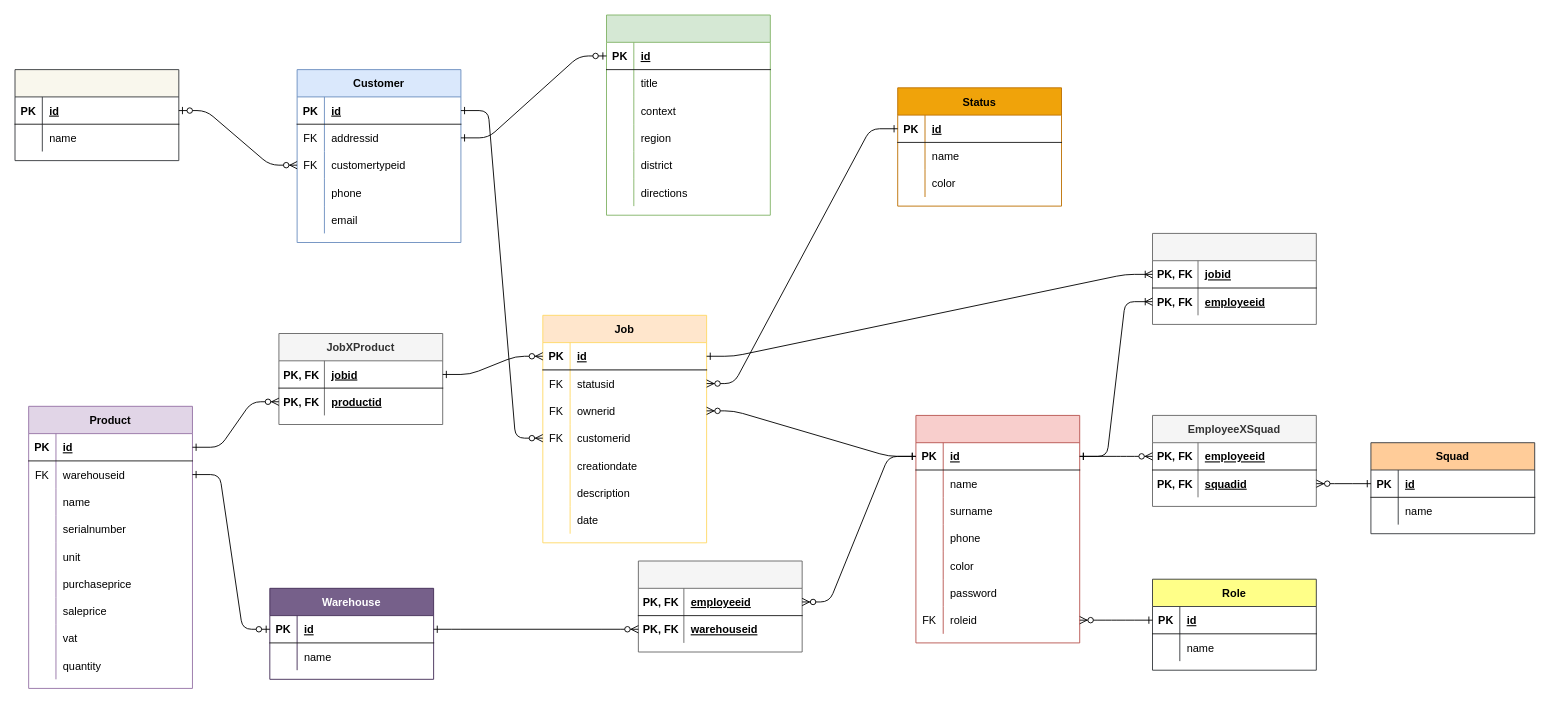
This 1550x703 diagram has some shape labels left out. Each missing label, with the box of its shape:
Address: (606, 14, 770, 215)
Customer Type: (14, 69, 179, 161)
Employee: (915, 415, 1080, 643)
EmployeeXWarehouse: (637, 560, 802, 652)
JobXEmployee: (1152, 233, 1316, 324)
